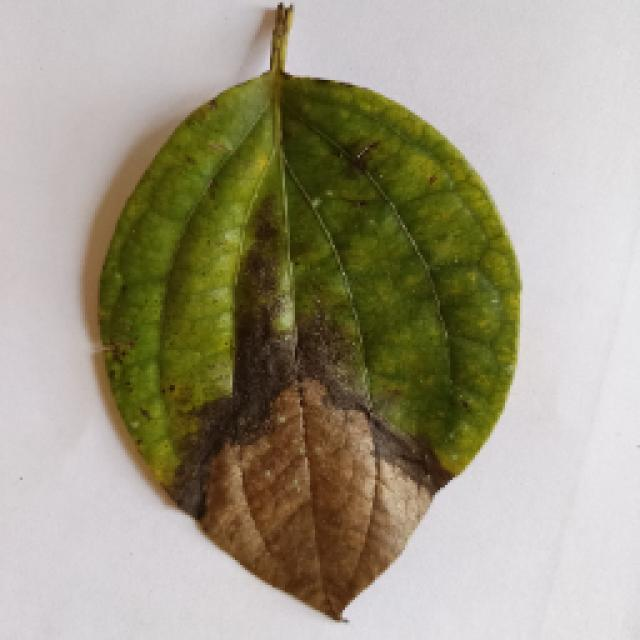footrot: (35, 18, 607, 630)
